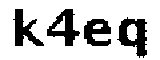4: (47, 5, 81, 50)
e: (82, 16, 114, 48)
k: (13, 7, 46, 49)
q: (117, 14, 150, 60)
